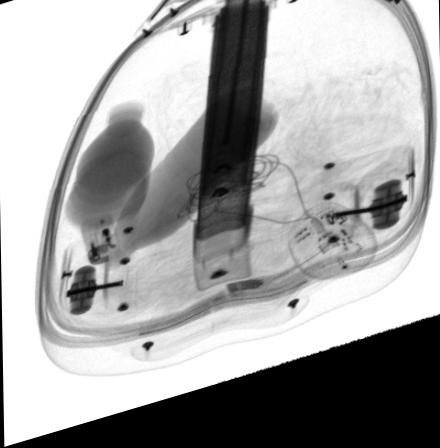Lighter: (78, 210, 117, 271)
